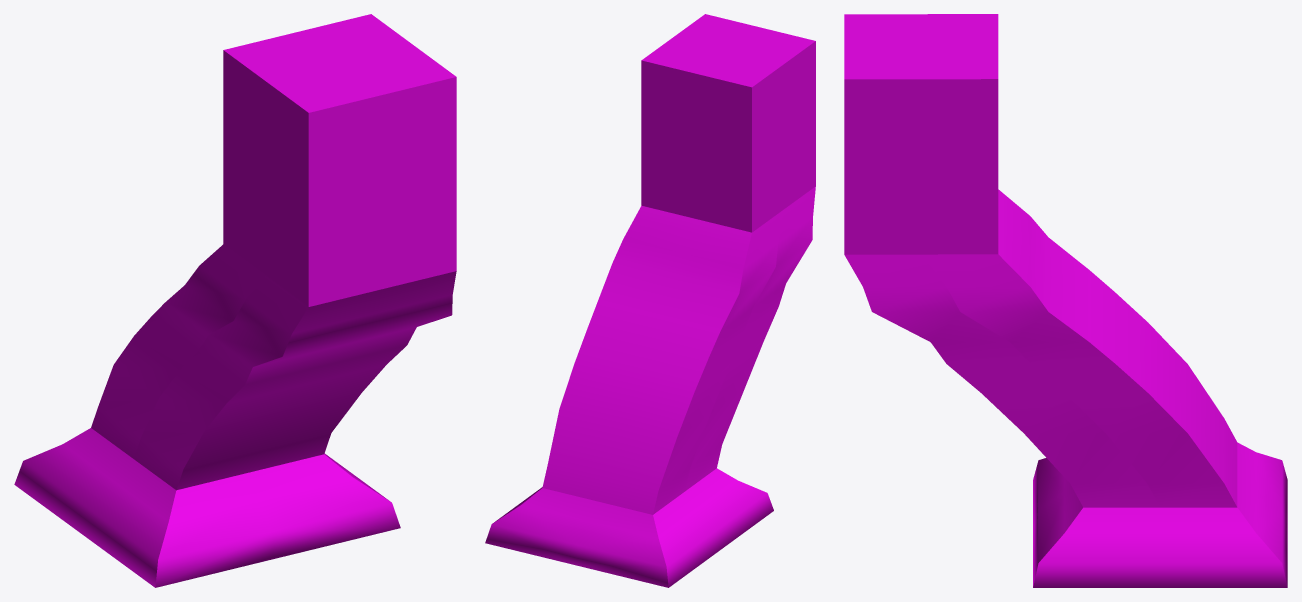
Rendered from KitchenVent.fbx.
3 renders of one model, left to right at view 1: azimuth 30°, elevation 25°; view 2: azimuth 150°, elevation 25°; view 3: azimuth 270°, elevation 25°, orthographic. The views are drawn at different scales.
Visible parts, largest first — view 1: Vent; view 2: Vent; view 3: Vent.
Part boxes in pixels (x1=…): Vent: x1=14, y1=14, x2=456, y2=587; Vent: x1=485, y1=14, x2=815, y2=587; Vent: x1=844, y1=14, x2=1287, y2=587.
Bounding box in the file's own units: 234 × 501 × 405.
